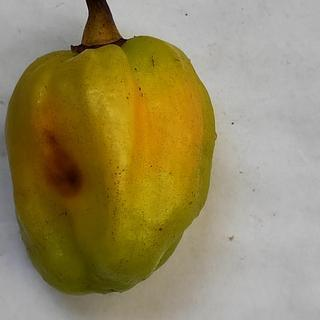Defect: (35, 132, 92, 207)
